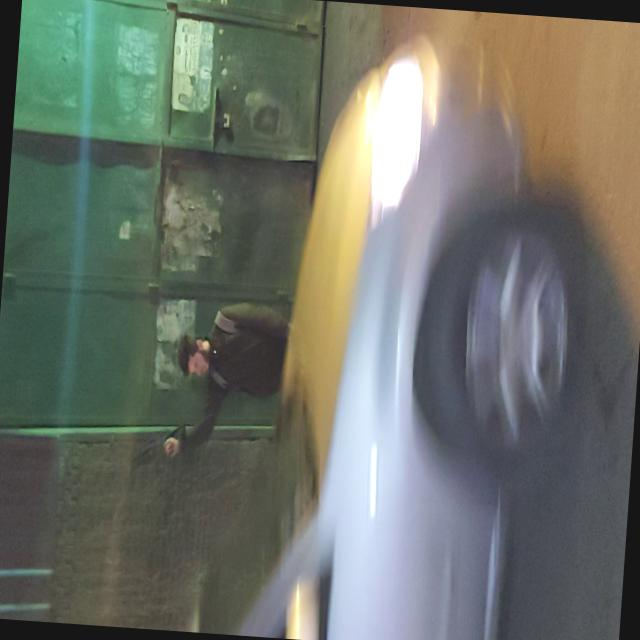long weapon: (124, 402, 195, 482)
